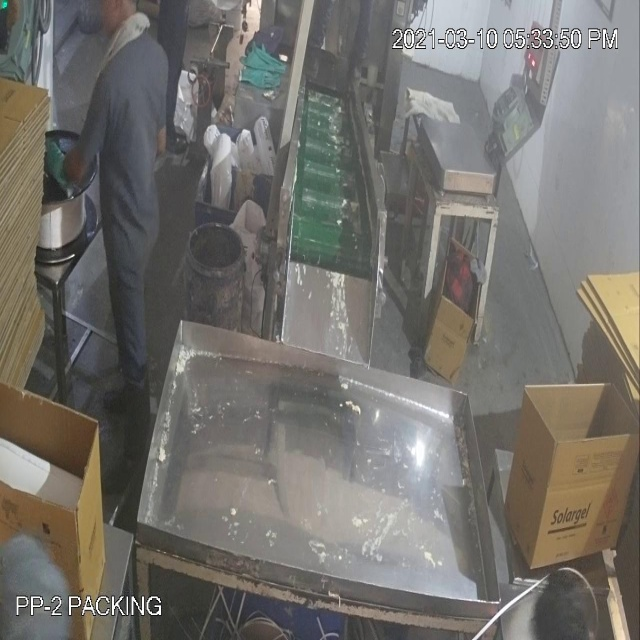Guantes: (36, 124, 74, 204)
